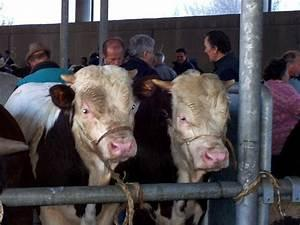cow: (2, 63, 140, 224), (149, 68, 235, 224)
